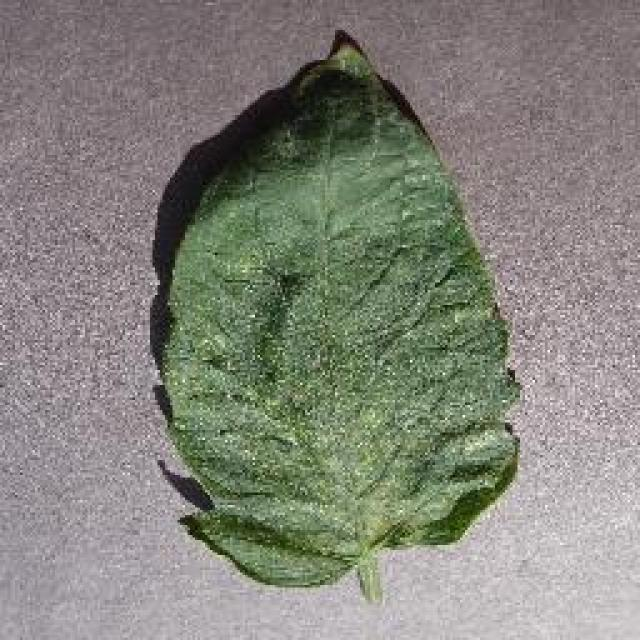Tomato mosaic virus leaf: (155, 44, 517, 586)
